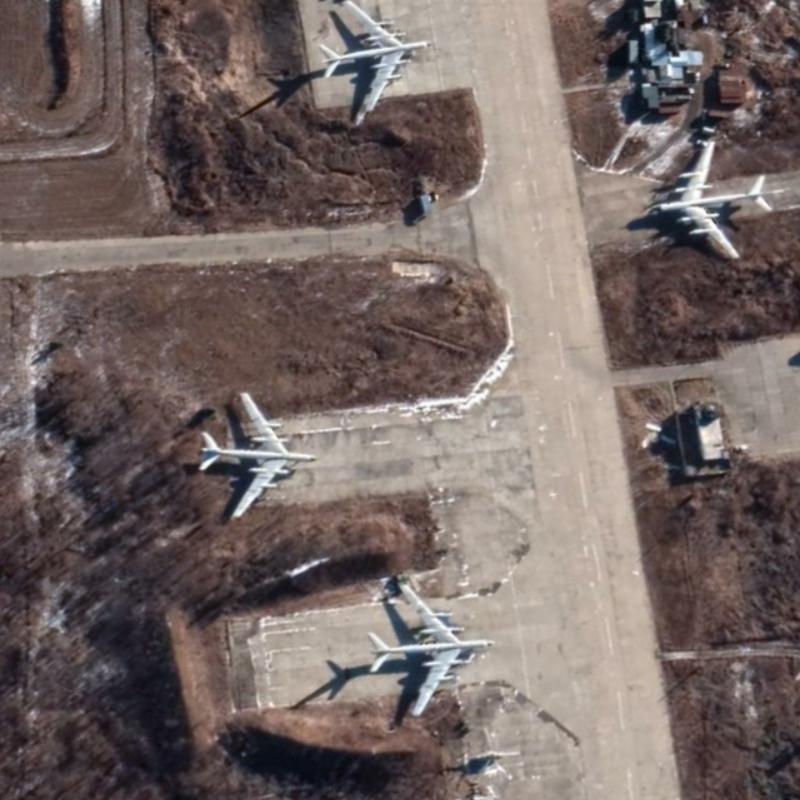A17: (362, 577, 497, 719), (641, 137, 779, 263), (193, 388, 319, 519), (312, 0, 433, 128)
